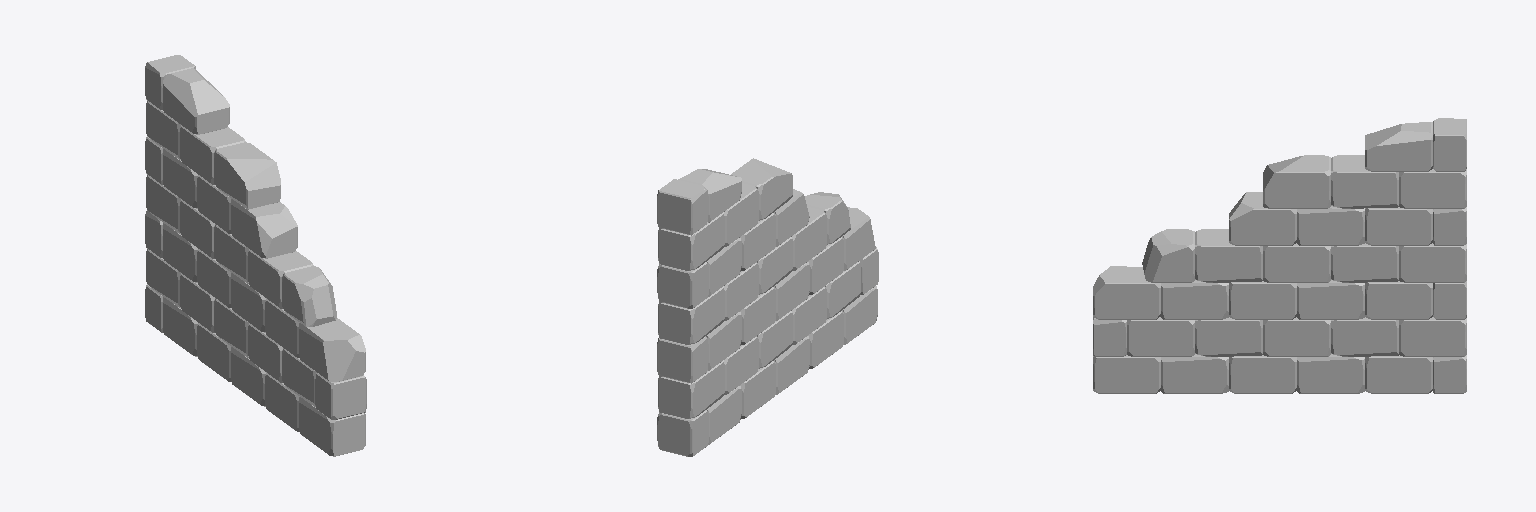
Rendered from Parede quebrada 2.obj.
3 renders of one model, left to right at view 1: azimuth 30°, elevation 25°; view 2: azimuth 150°, elevation 25°; view 3: azimuth 270°, elevation 25°, orthographic.
Visible parts, largest first — view 1: Cube.124_Cube.237; view 2: Cube.124_Cube.237; view 3: Cube.124_Cube.237.
Part boxes in pixels (bbox=[...]): Cube.124_Cube.237: bbox=[145, 55, 366, 456]; Cube.124_Cube.237: bbox=[657, 158, 878, 456]; Cube.124_Cube.237: bbox=[1093, 118, 1466, 393].
Bounding box in the file's own units: 0.3 × 2.1 × 2.75.